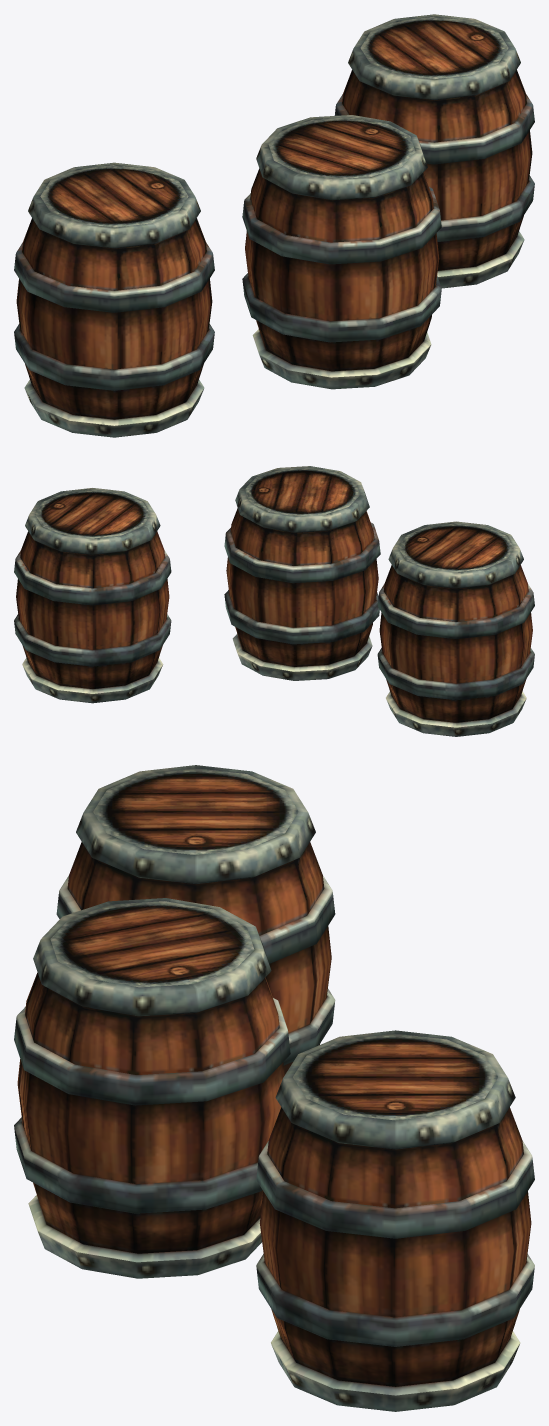
The model's file is PUSH3_BARRELS.fbx.
3 renders of one model, top to bottom at view 1: azimuth 30°, elevation 25°; view 2: azimuth 150°, elevation 25°; view 3: azimuth 270°, elevation 25°, orthographic. The views are drawn at different scales.
Parts seen in each view (by area): view 1: PUSH3_BARRELS; view 2: PUSH3_BARRELS; view 3: PUSH3_BARRELS.
Boxes of the visible parts, left/top/right/bottom form: PUSH3_BARRELS: left=14, top=14, right=534, bottom=437; PUSH3_BARRELS: left=14, top=466, right=534, bottom=736; PUSH3_BARRELS: left=14, top=765, right=534, bottom=1411.
Bounding box in the file's own units: 25622 × 9241 × 14723.
2 materials, 2 textured.
